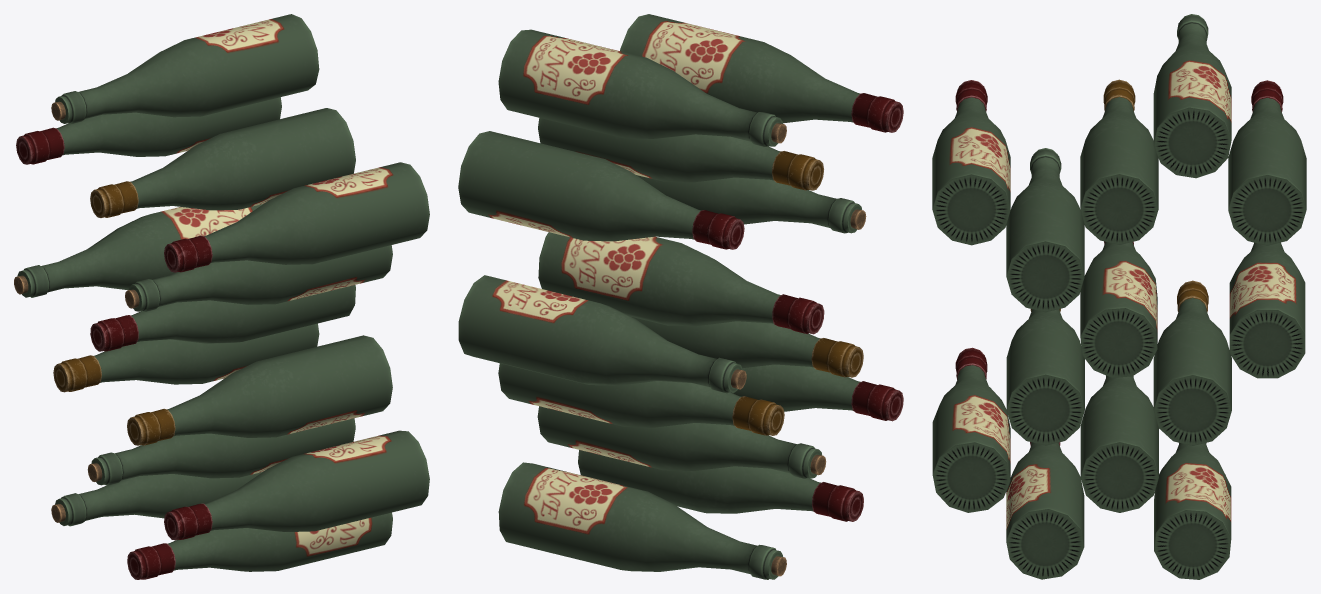
The model's file is LOD0_bottles_wineCabinet_2.fbx.
The picture shows the model from 3 angles, left to right: view 1: azimuth 30°, elevation 25°; view 2: azimuth 150°, elevation 25°; view 3: azimuth 270°, elevation 25°; orthographic projection. The views are drawn at different scales.
Visible parts, largest first — view 1: LOD0_bottles_wineCabinet_2; view 2: LOD0_bottles_wineCabinet_2; view 3: LOD0_bottles_wineCabinet_2.
Boxes of the visible parts, <box> form: LOD0_bottles_wineCabinet_2: <box>14,14,429,579</box>; LOD0_bottles_wineCabinet_2: <box>458,14,903,579</box>; LOD0_bottles_wineCabinet_2: <box>932,14,1306,579</box>.
Size of the model in its own units: 0.3337 by 0.618 by 0.4435.
